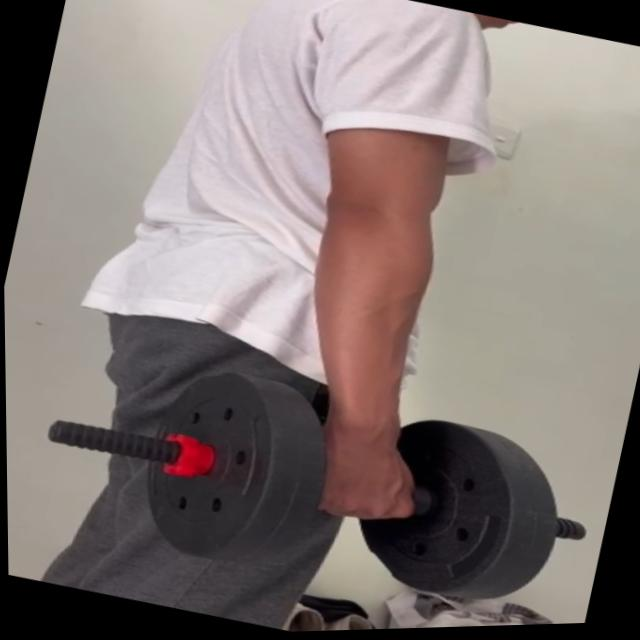hammer: (124, 343, 576, 636)
